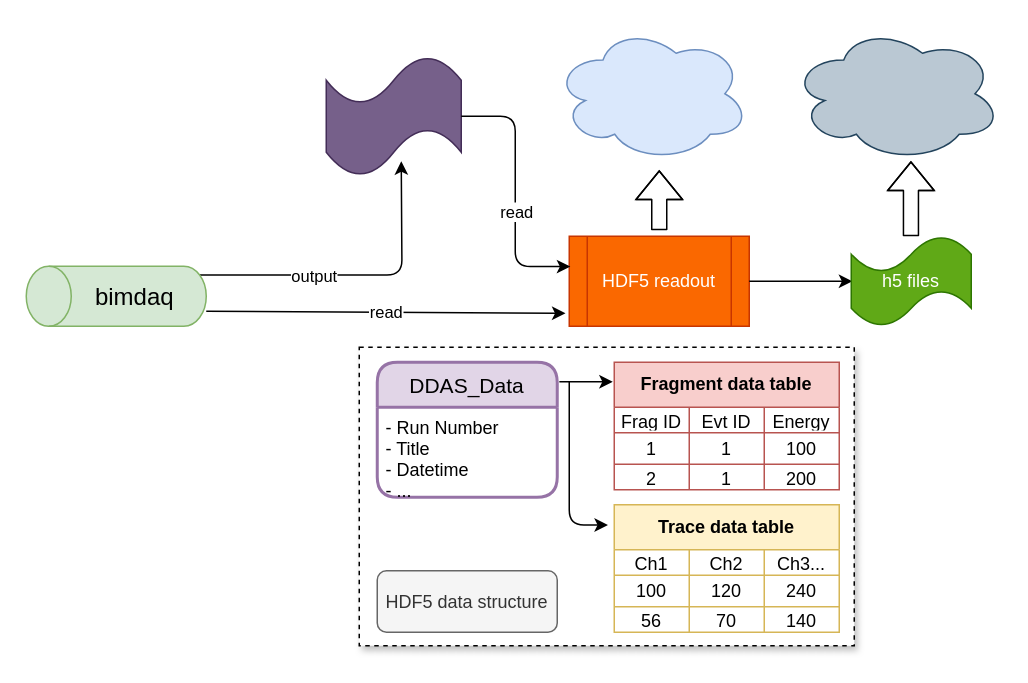
Image size: 1028x683. Some labels were removed from this diagram. The shapes that lost their labels are listed below. From the top down, each one's centre as x and y in pixels, then its label:
[651,93]: Build GUI apps
[895,93]: General HDF5 tools, Python, etc
[393,115]: evt files
